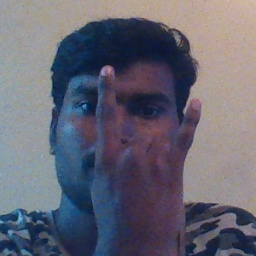V: (89, 58, 204, 248)
